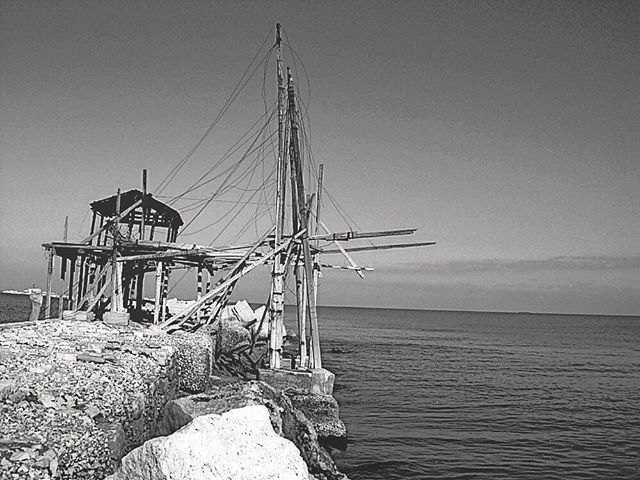building: (50, 190, 216, 318)
sea: (328, 319, 640, 480)
sky: (1, 1, 630, 308)
